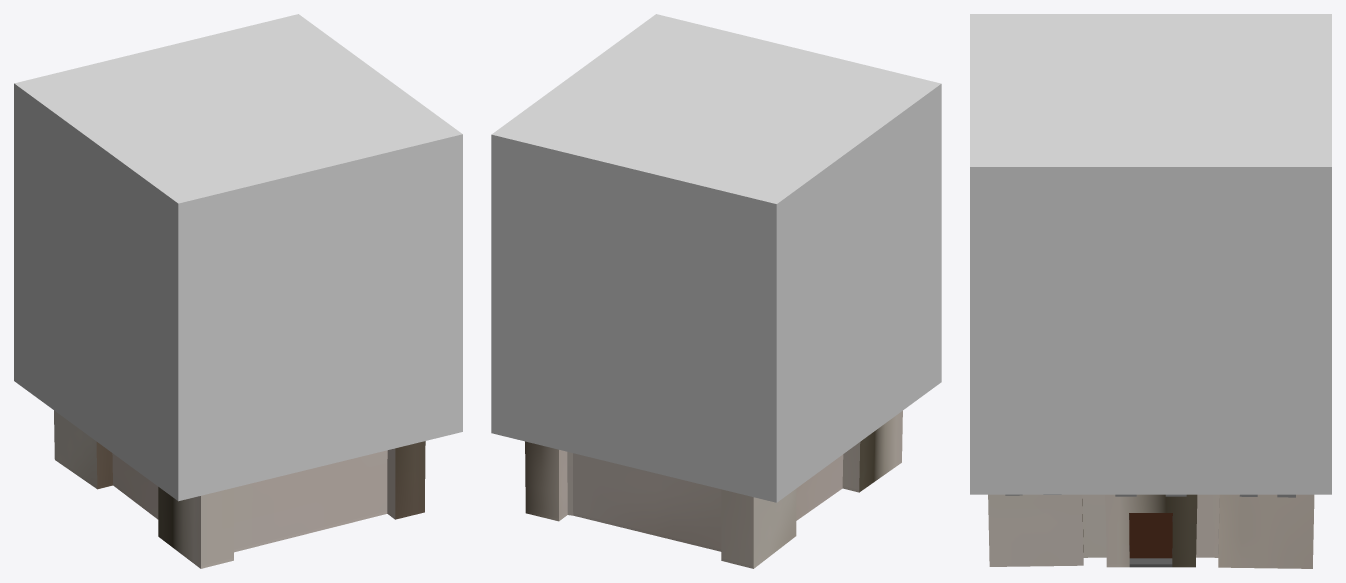
Rendered from 4castle.fbx.
3 renders of one model, left to right at view 1: azimuth 30°, elevation 25°; view 2: azimuth 150°, elevation 25°; view 3: azimuth 270°, elevation 25°, orthographic. The views are drawn at different scales.
Visible parts, largest first — view 1: Cube.003, Cube; view 2: Cube.003, Cube; view 3: Cube.003, Cube.
Part boxes in pixels (x1=…): Cube.003: x1=14, y1=14, x2=462, y2=501; Cube: x1=54, y1=410, x2=425, y2=568; Cube.003: x1=491, y1=14, x2=941, y2=502; Cube: x1=525, y1=411, x2=902, y2=568; Cube.003: x1=970, y1=14, x2=1331, y2=494; Cube: x1=988, y1=494, x2=1314, y2=568.
Bounding box in the file's own units: 1708 × 2176 × 1708.
